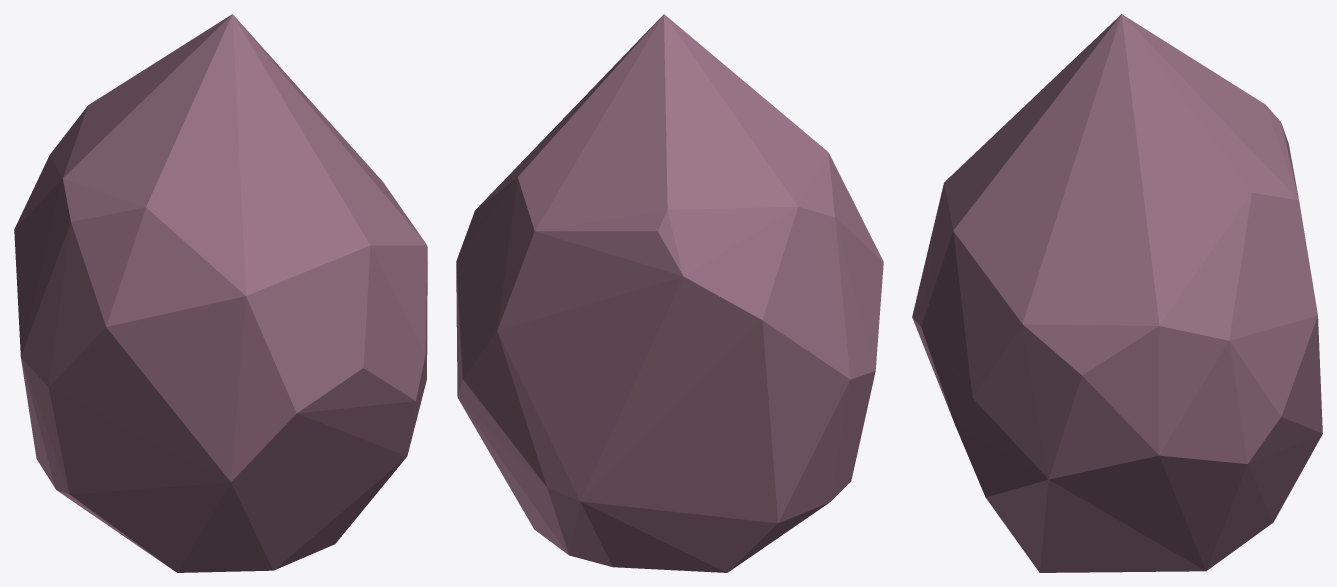
Rendered from food_produce_lemon_a15.glb.
3 views of the same model, side by side, from view 1: azimuth 30°, elevation 25°; view 2: azimuth 150°, elevation 25°; view 3: azimuth 270°, elevation 25° (orthographic). The views are drawn at different scales.
Parts seen in each view (by area): view 1: geometry_0; view 2: geometry_0; view 3: geometry_0.
Part boxes in pixels (x1,y1,x2,y2): geometry_0: (14, 14, 427, 572); geometry_0: (456, 14, 883, 572); geometry_0: (912, 14, 1322, 572).
Size of the model in its own units: 0.3419 by 0.4539 by 0.3178.
